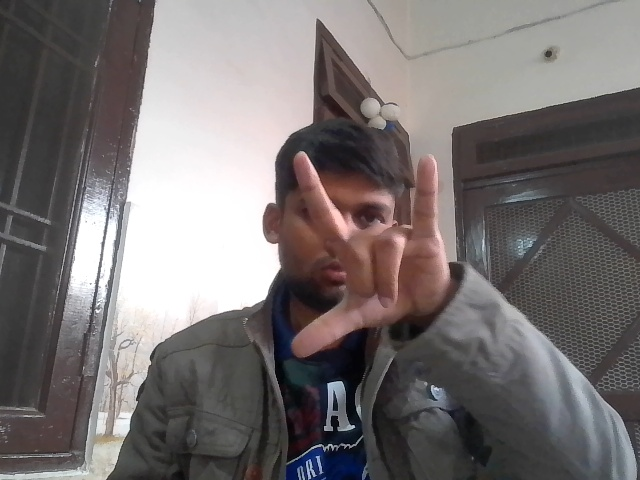ILoveYou: (275, 136, 468, 369)
